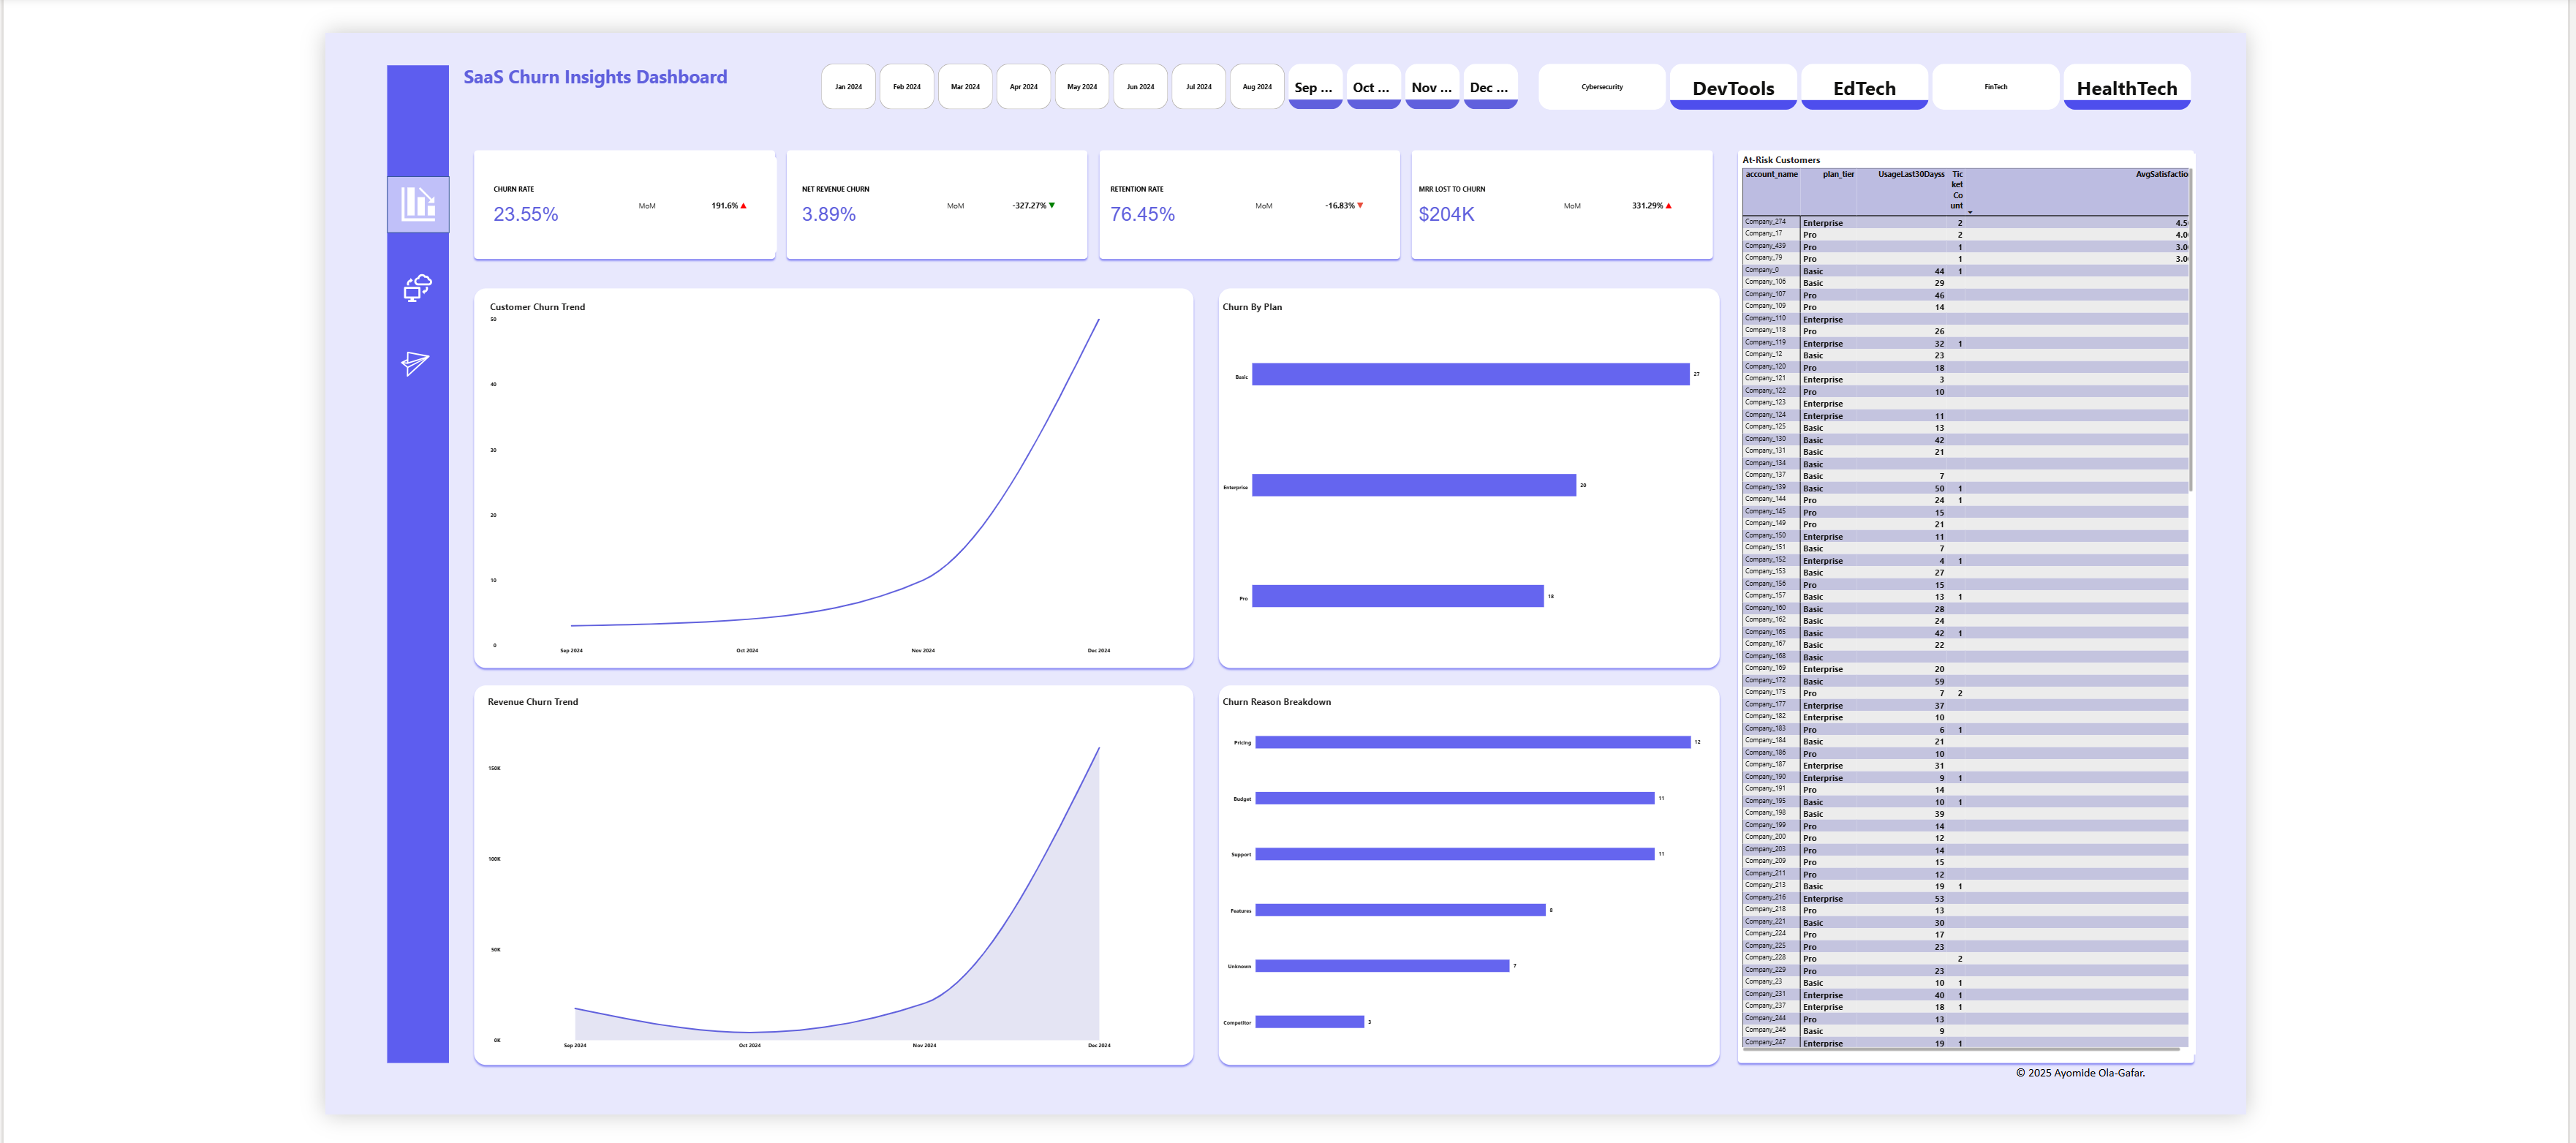

What the dashboard file says about the page in this screenshot:
{"tool":"powerbi","page":{"name":"Page 1","canvas":[3980,2240],"ordinal":0},"visuals":[{"type":"pivotTable","title":"At-Risk Customers","fields":{"Rows":["ravenstack_accounts.account_name"],"Values":["Min(ravenstack_accounts.plan_tier)","_Churn_deep_dive_charts_measures.UsageLast30Dayss","_Churn_deep_dive_charts_measures.TicketCount","_Churn_deep_dive_charts_measures.AvgSatisfaction"]},"box":[2930.4,252.2,943.5,1865.2],"z":6000},{"type":"lineChart","title":"Customer Churn Trend","fields":{"Y":["_Churn_deep_dive_charts_measures.Customer Churn Monthly"],"Category":["DateTable.MonthYear"]},"box":[334.8,556.5,1417.4,743.5],"z":10000},{"type":"lineChart","title":"Revenue Churn Trend","fields":{"Y":["_Churn_deep_dive_charts_measures.MRR Churn Monthly"],"Category":["DateTable.MonthYear"]},"box":[330.4,1373.9,1421.7,743.5],"z":11000},{"type":"cardVisual","fields":{"Data":["_Churn_Deep_Dive_Measures.M1 - Churn Rate %","_Churn_Deep_Dive_Measures.M2 - Net Revenue Churn %","_Churn_Deep_Dive_Measures.M3 - Retention Rate %","_Churn_Deep_Dive_Measures.M4 - MRR Lost to Churn ($)"]},"box":[330.4,252.2,2526.1,213],"z":12000},{"type":"clusteredBarChart","title":"Churn Reason Breakdown","fields":{"Category":["ravenstack_churn_events.reason_code"],"Y":["_Churn_deep_dive_charts_measures.Customer Churn by Reason 2"]},"box":[1856.5,1373.9,1000,743.5],"z":13000},{"type":"barChart","title":"Churn By Plan ","fields":{"Category":["ravenstack_accounts.plan_tier"],"Y":["_Churn_deep_dive_charts_measures.Customer Churn by Segment"]},"box":[1856.5,556.5,1000,743.5],"z":14000},{"type":"textbox","box":[282.6,60.9,739.1,139.1],"z":15000},{"type":"advancedSlicerVisual","fields":{"Values":["DateTable.MonthYear"]},"box":[1021.7,60.9,1456.5,104.3],"z":16000},{"type":"advancedSlicerVisual","fields":{"Values":["ravenstack_accounts.industry"]},"box":[2510,60,1365,105],"z":17000}]}

Visuals, with their boxes on the page's 3980x2240 design canvas (x1, y1, x2, y2). These are canvas units, not pixel positions in the 2576x1143 screenshot, which may show the page scaled, cropped or inside an application window:
"At-Risk Customers" pivotTable: [2930, 252, 3874, 2117]
"Customer Churn Trend" lineChart: [335, 556, 1752, 1300]
"Revenue Churn Trend" lineChart: [330, 1374, 1752, 2117]
cardVisual - _Churn_Deep_Dive_Measures.M1 - Churn Rate % x _Churn_Deep_Dive_Measures.M2 - Net Revenue Churn %: [330, 252, 2856, 465]
"Churn Reason Breakdown" clusteredBarChart: [1856, 1374, 2856, 2117]
"Churn By Plan " barChart: [1856, 556, 2856, 1300]
textbox: [283, 61, 1022, 200]
advancedSlicerVisual - DateTable.MonthYear: [1022, 61, 2478, 165]
advancedSlicerVisual - ravenstack_accounts.industry: [2510, 60, 3875, 165]
